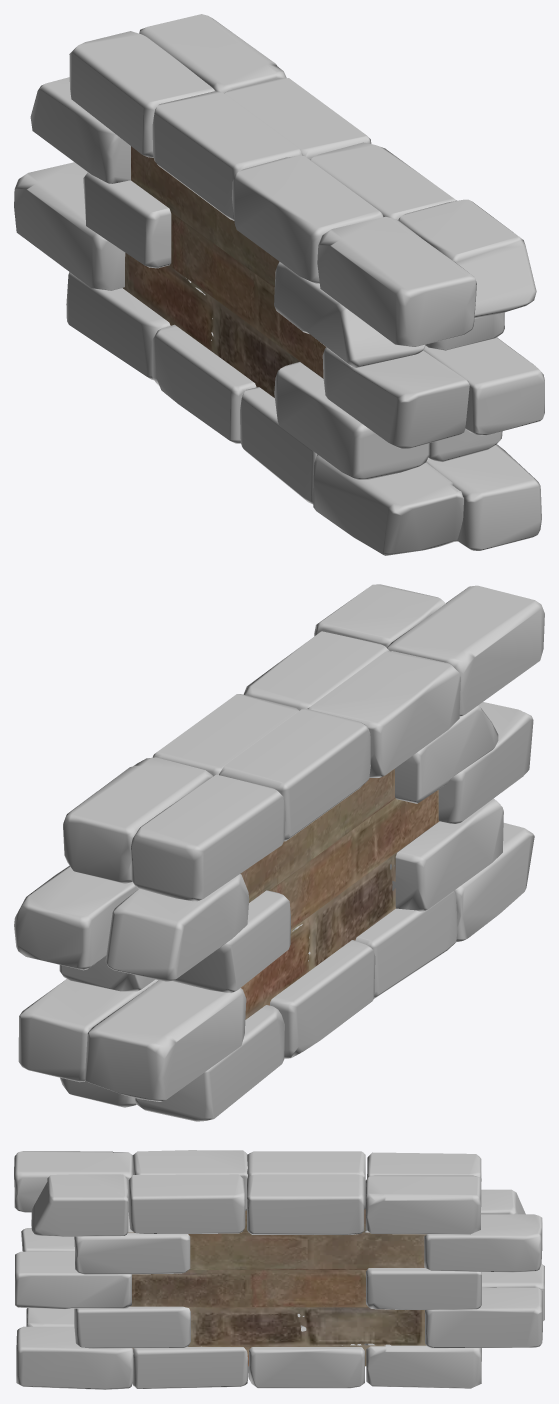
3 views of the same model, one above another, from view 1: azimuth 30°, elevation 25°; view 2: azimuth 150°, elevation 25°; view 3: azimuth 270°, elevation 25° (orthographic). The views are drawn at different scales.
Visible parts, largest first — view 1: SM_Human_Ruins_Brick_Dmg_04_LOD0; view 2: SM_Human_Ruins_Brick_Dmg_04_LOD0; view 3: SM_Human_Ruins_Brick_Dmg_04_LOD0.
Boxes of the visible parts, bbox=[...] form: SM_Human_Ruins_Brick_Dmg_04_LOD0: bbox=[14, 14, 544, 555]; SM_Human_Ruins_Brick_Dmg_04_LOD0: bbox=[14, 584, 544, 1121]; SM_Human_Ruins_Brick_Dmg_04_LOD0: bbox=[14, 1150, 544, 1389].
Size of the model in its own units: 0.3389 by 0.5893 by 1.47.
